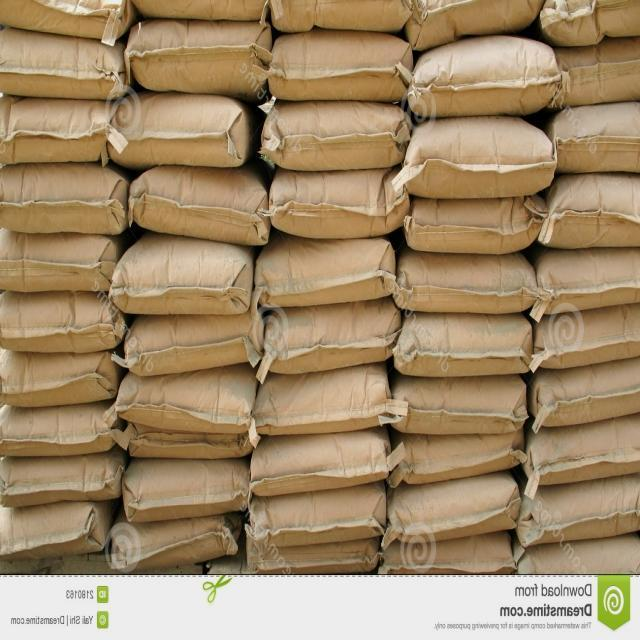gunny_bag: (403, 110, 561, 204), (404, 36, 560, 127), (121, 16, 277, 106), (103, 92, 254, 178), (124, 163, 267, 250), (256, 236, 402, 320), (252, 352, 389, 440), (262, 294, 400, 380), (270, 28, 410, 112), (114, 358, 254, 442), (120, 440, 252, 528), (241, 472, 391, 549), (108, 240, 256, 318), (266, 162, 412, 240), (246, 426, 391, 500), (258, 102, 408, 172), (387, 466, 519, 545), (395, 244, 541, 314), (122, 307, 264, 378), (0, 22, 129, 98), (390, 311, 532, 378), (538, 168, 640, 261), (0, 162, 133, 232), (391, 372, 532, 437), (529, 410, 640, 490), (408, 191, 544, 256), (523, 477, 640, 551), (0, 290, 127, 356), (535, 242, 640, 320), (0, 98, 111, 171), (0, 448, 125, 512), (394, 426, 520, 489), (542, 34, 640, 114), (529, 355, 640, 423), (0, 496, 111, 564), (536, 302, 640, 372), (546, 95, 640, 172), (0, 402, 119, 462), (0, 350, 120, 408), (0, 235, 122, 292), (380, 528, 518, 576), (408, 0, 546, 48), (268, 0, 412, 41), (516, 530, 640, 575), (539, 0, 640, 47)
